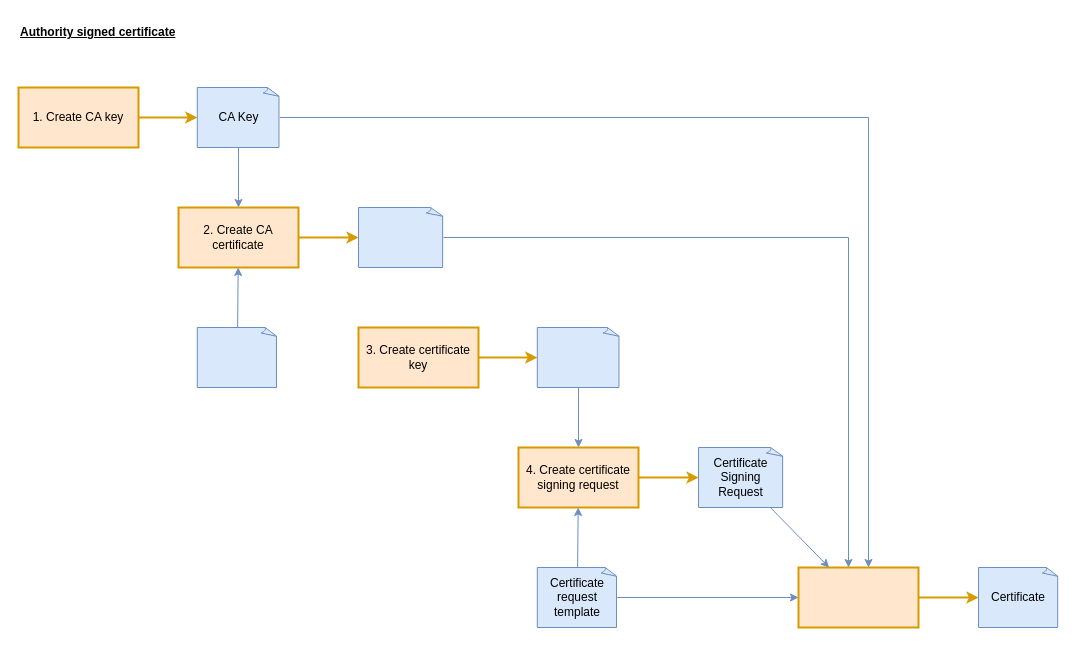
The diagram is 1076 pixels wide and 645 high, and some of its shapes have lost their labels. The shapes that lost their labels are listed below. From the top down, each one's centre as x and y in pixels, then its label:
pixel 401 237: CA certificate
pixel 236 357: CA request template
pixel 578 357: Certificate key
pixel 858 597: 5. Create certificate
